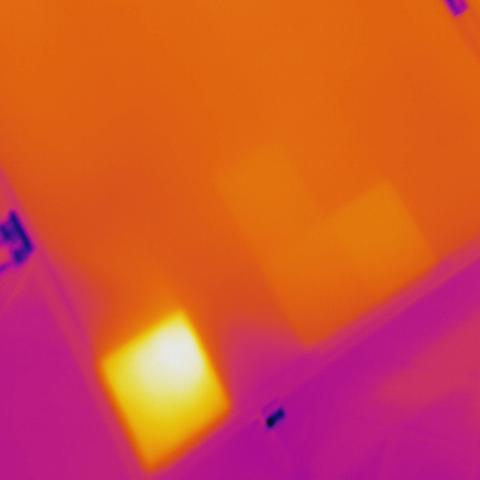fault: (89, 305, 240, 475)
